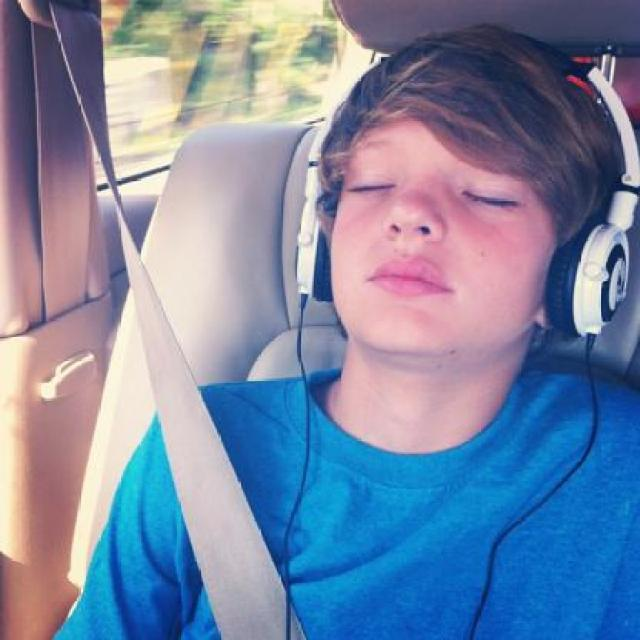earphone: (263, 35, 630, 295)
